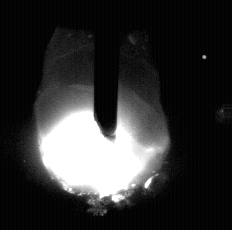arame: (95, 0, 119, 142)
poca: (38, 0, 170, 230)
